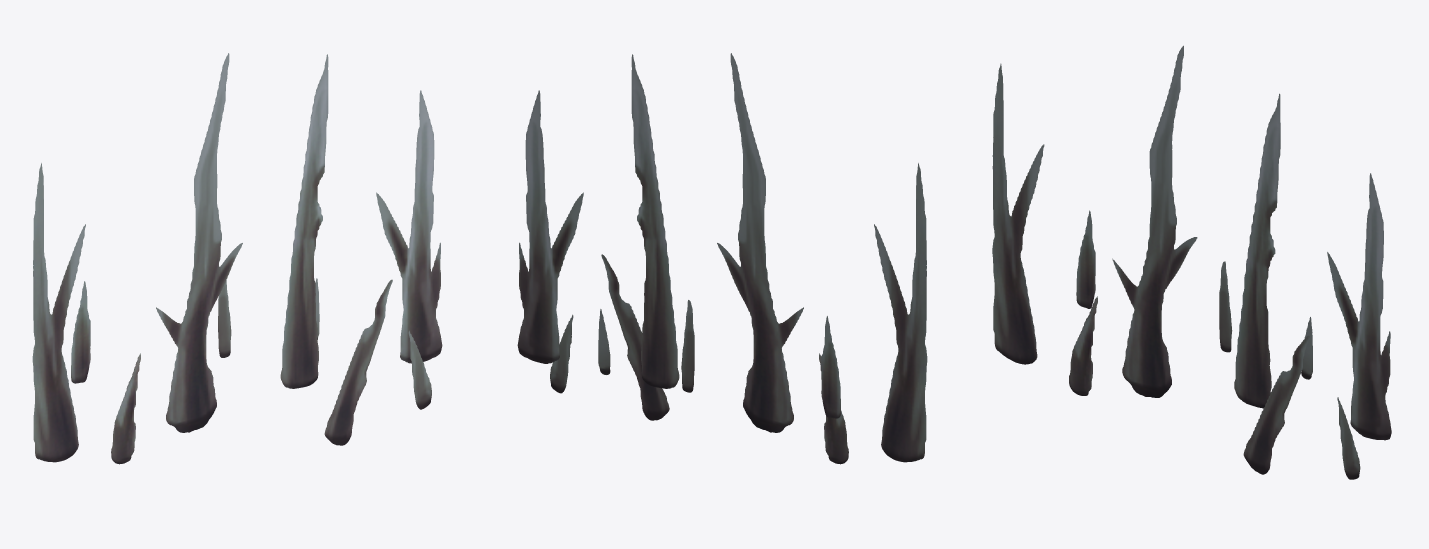
File: Spikes.FBX
3 views of the same model, side by side, from view 1: azimuth 30°, elevation 25°; view 2: azimuth 150°, elevation 25°; view 3: azimuth 330°, elevation 25° (orthographic). The views are drawn at different scales.
Visible parts, largest first — view 1: Spike; view 2: Spike; view 3: Spike.
Boxes of the visible parts, box(x1,y1,x2,y2) form: Spike: box(32, 53, 442, 464); Spike: box(517, 53, 927, 464); Spike: box(992, 45, 1391, 479).
Size of the model in its own units: 259 by 40.79 by 265.
